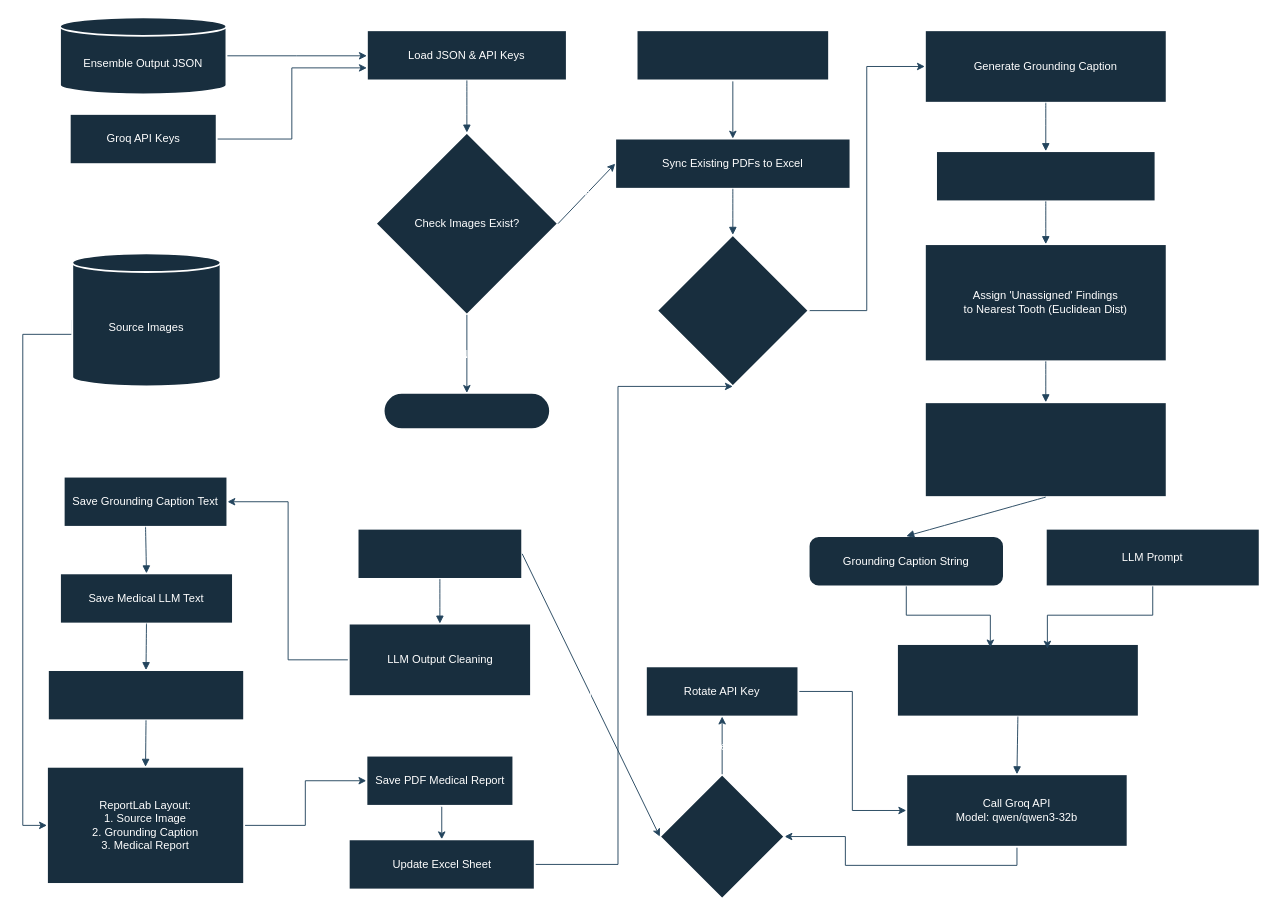
The diagram is 1277 pixels wide and 915 high, and some of its shapes have lost their labels. Here are the shapes that lost their labels. From the top down, the centre of each, then its label:
the point at 732,55: Evaluation Excel Log
the point at 1045,176: Calculated BBox Centers
the point at 732,310: For Each Image
the point at 466,411: Stop: Validation Error
the point at 1045,449: Format Sections: Visibility, Wisdom, Pathology, History
the point at 439,553: Raw LLM Output
the point at 145,695: Generate PDF Report
the point at 1017,680: Combine: System Prompt + Caption
the point at 721,836: Rate Limit?
